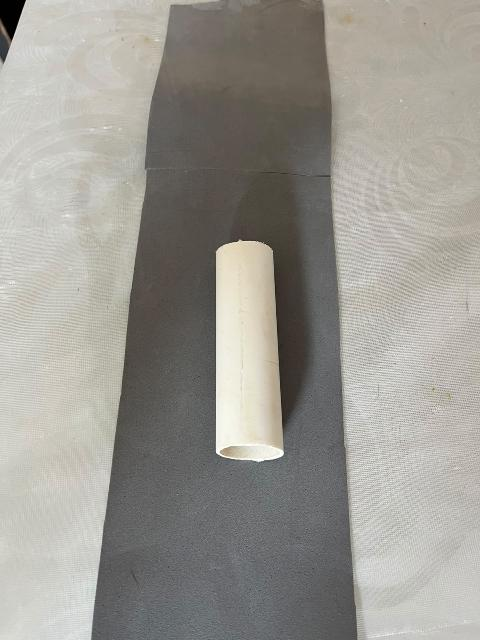PVC: (183, 200, 311, 493)
